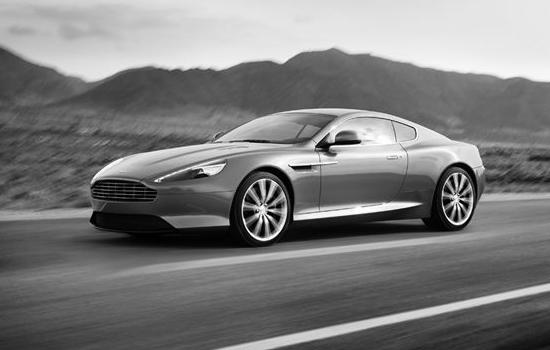car: (84, 107, 496, 254)
